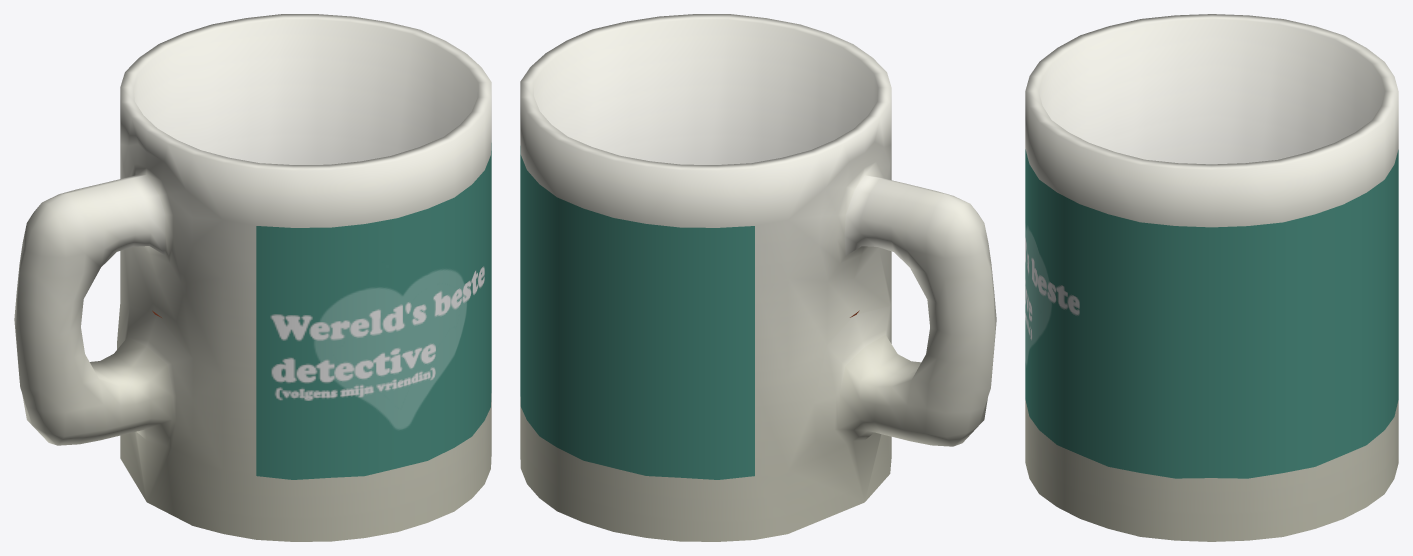
Rendered from mesh_mug_pivot_fixed.fbx.
3 views of the same model, side by side, from view 1: azimuth 30°, elevation 25°; view 2: azimuth 150°, elevation 25°; view 3: azimuth 270°, elevation 25° (orthographic).
Parts seen in each view (by area): view 1: mug; view 2: mug; view 3: mug.
Part boxes in pixels (x1,y1,x2,y2): mug: (14,14,491,541); mug: (520,14,996,541); mug: (1025,14,1398,541).
Bounding box in the file's own units: 28.68 × 22.64 × 20.59.
